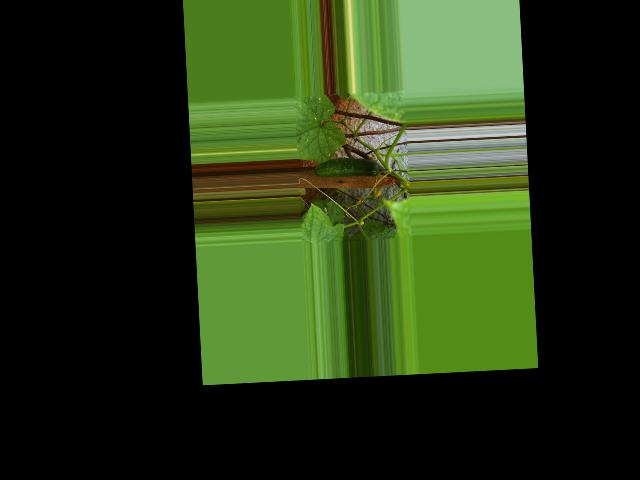cucumber: (313, 156, 380, 180)
